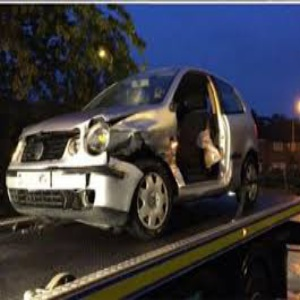bumper: (73, 155, 141, 234)
